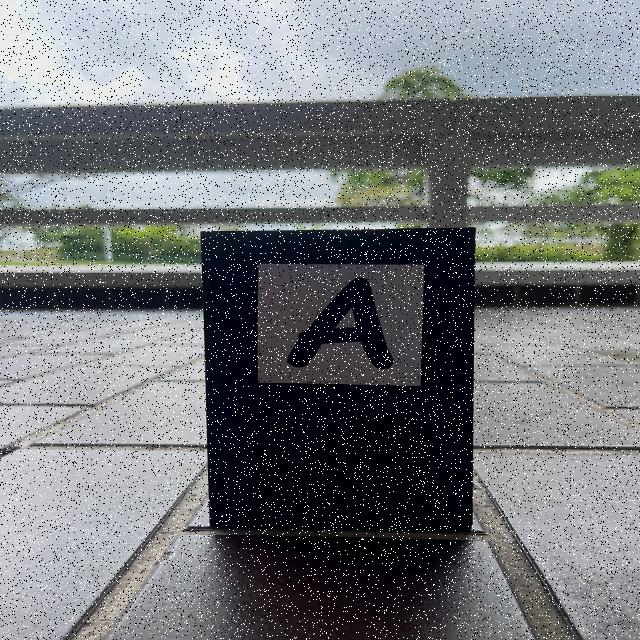A_id20: (256, 261, 427, 388)
